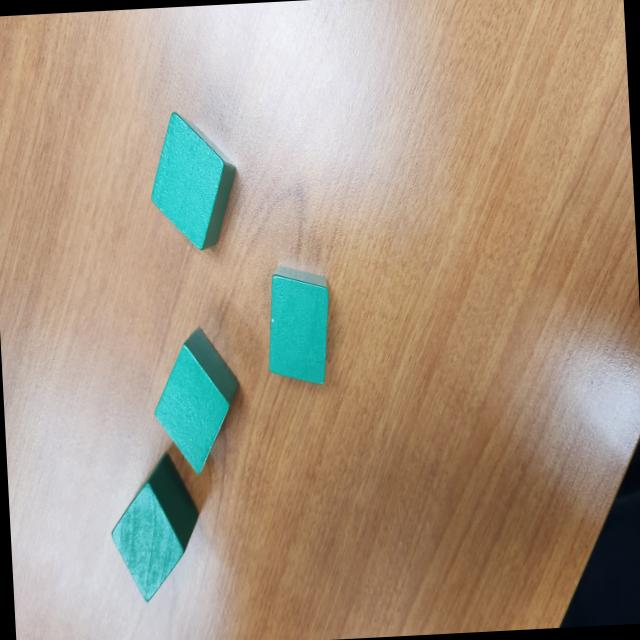green: (107, 450, 204, 605), (144, 106, 242, 255), (150, 323, 244, 478), (264, 262, 334, 389)
